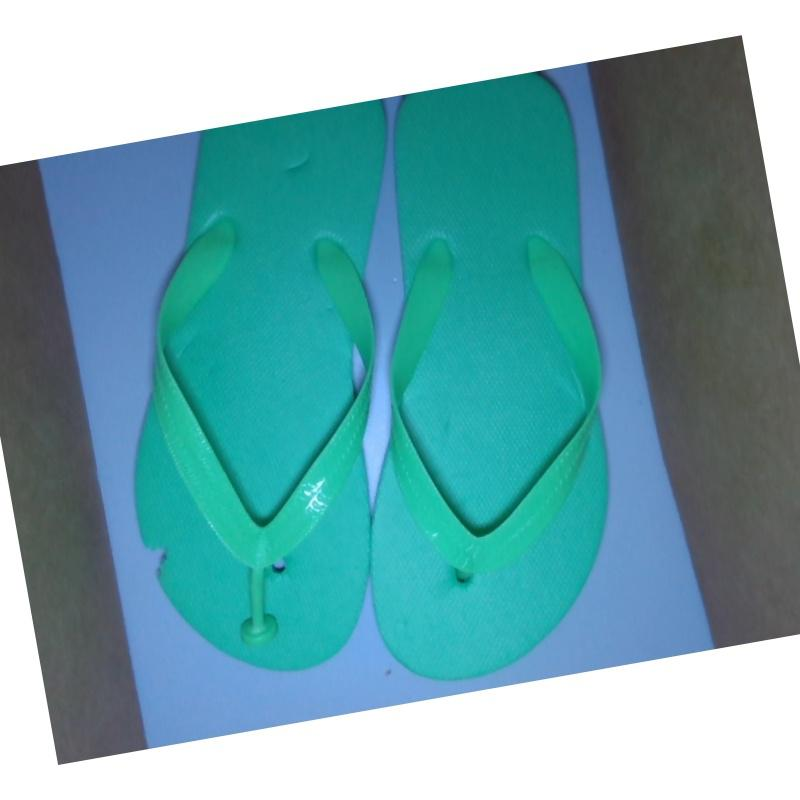chipped: (133, 529, 181, 601)
detached: (225, 585, 297, 655)
